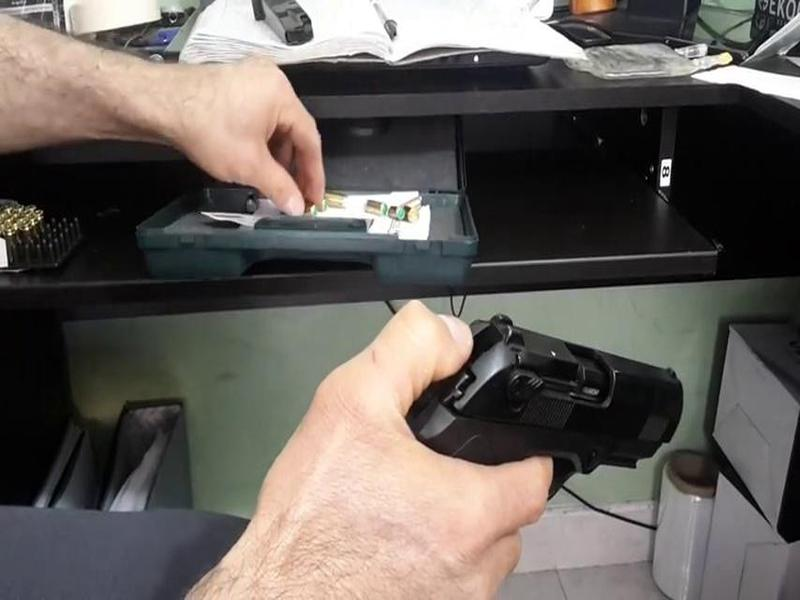Pistola: (357, 285, 710, 526)
